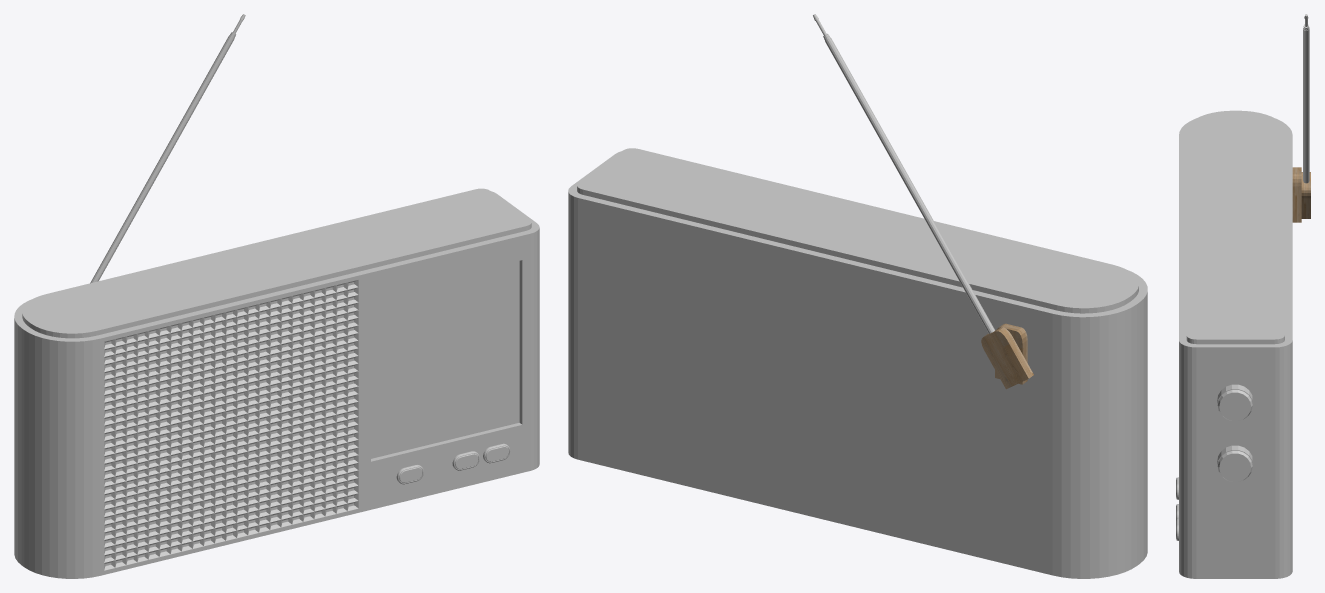
Rendered from Radio.fbx.
3 renders of one model, left to right at view 1: azimuth 30°, elevation 25°; view 2: azimuth 150°, elevation 25°; view 3: azimuth 270°, elevation 25°, orthographic. The views are drawn at different scales.
Visible parts, largest first — view 1: 立方體, 立方體.003, 圓柱體.002, 平面.003; view 2: 立方體, 圓柱體.002, 立方體.010; view 3: 立方體, 圓柱體.001, 圓柱體.002, 立方體.010.
Boxes of the visible parts, <box> form: 立方體: <box>14,188,539,578</box>; 立方體.003: <box>104,280,358,570</box>; 圓柱體.002: <box>90,14,245,283</box>; 平面.003: <box>396,443,510,484</box>; 立方體: <box>568,148,1147,578</box>; 圓柱體.002: <box>813,14,994,333</box>; 立方體.010: <box>981,323,1033,389</box>; 立方體: <box>1179,110,1292,578</box>; 圓柱體.001: <box>1217,384,1253,482</box>; 圓柱體.002: <box>1303,14,1309,183</box>; 立方體.010: <box>1292,167,1310,222</box>.
Bounding box in the file's own units: 103 × 89.55 × 24.23.
